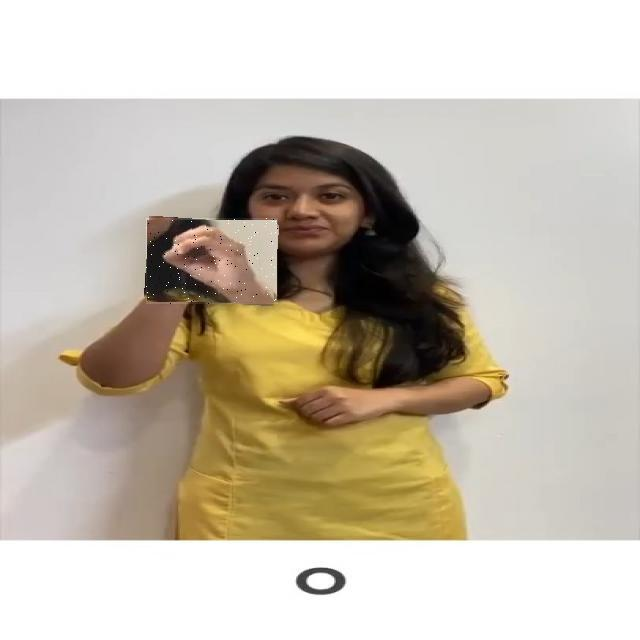O: (146, 218, 278, 304)
